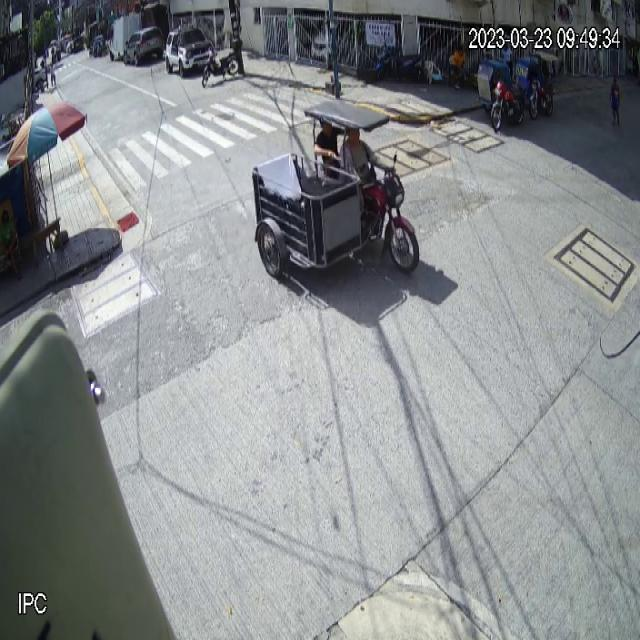Tricycle: (251, 100, 420, 278), (476, 60, 526, 130)
